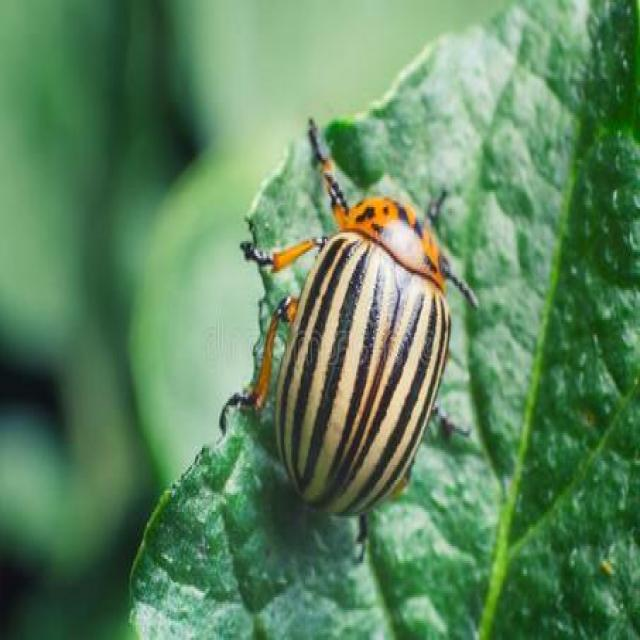ShuCaiHuaBanChong-Grown-: (260, 155, 458, 550)
